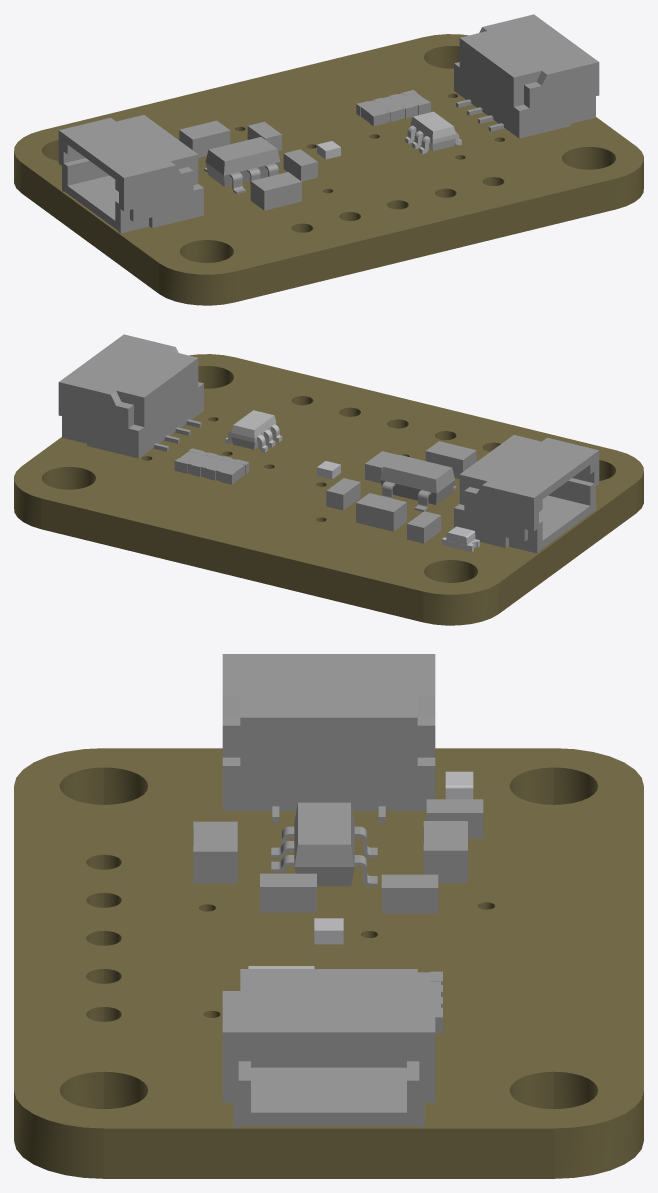
The model's file is ada-5579.glb.
The picture shows the model from 3 angles, top to bottom: view 1: azimuth 30°, elevation 25°; view 2: azimuth 150°, elevation 25°; view 3: azimuth 270°, elevation 25°; orthographic projection. The views are drawn at different scales.
Parts seen in each view (by area): view 1: 0.16666666666666666_0.16666666666666666_0.08333333333333333_, 0.3333333333333333_0.3333333333333333_0.3333333333333333_0, 0.5_0.5_0.5_0.85; view 2: 0.16666666666666666_0.16666666666666666_0.08333333333333333_, 0.3333333333333333_0.3333333333333333_0.3333333333333333_0, 0.5_0.5_0.5_0.85, 0.5833333333333334_0.5833333333333334_0.5833333333333334_0.8; view 3: 0.16666666666666666_0.16666666666666666_0.08333333333333333_, 0.3333333333333333_0.3333333333333333_0.3333333333333333_0, 0.5833333333333334_0.5833333333333334_0.5833333333333334_0.8.
Part boxes in pixels (x1,y1,x2,y2): 0.16666666666666666_0.16666666666666666_0.08333333333333333_: [14, 34, 643, 305]; 0.3333333333333333_0.3333333333333333_0.3333333333333333_0: [58, 14, 599, 233]; 0.5_0.5_0.5_0.85: [405, 111, 461, 154]; 0.16666666666666666_0.16666666666666666_0.08333333333333333_: [14, 354, 643, 625]; 0.3333333333333333_0.3333333333333333_0.3333333333333333_0: [58, 334, 599, 553]; 0.5_0.5_0.5_0.85: [225, 410, 282, 452]; 0.5833333333333334_0.5833333333333334_0.5833333333333334_0.8: [317, 461, 479, 552]; 0.16666666666666666_0.16666666666666666_0.08333333333333333_: [14, 748, 643, 1178]; 0.3333333333333333_0.3333333333333333_0.3333333333333333_0: [193, 654, 483, 1127]; 0.5833333333333334_0.5833333333333334_0.5833333333333334_0.8: [314, 771, 473, 944].
Bounding box in the file's own units: 2.54 × 0.4529 × 1.78.
